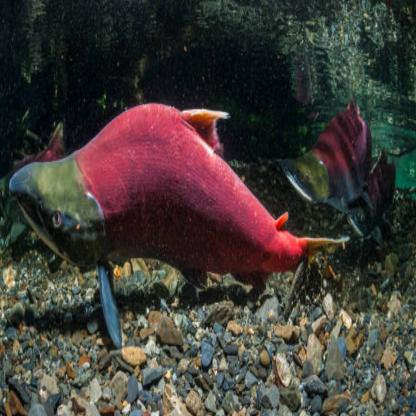sockeye: (14, 97, 292, 307), (295, 87, 392, 232)
